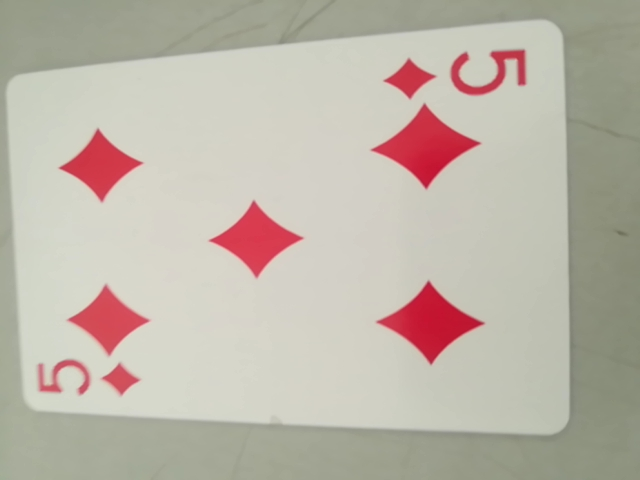fk 5: (382, 40, 531, 107), (24, 352, 145, 408)
